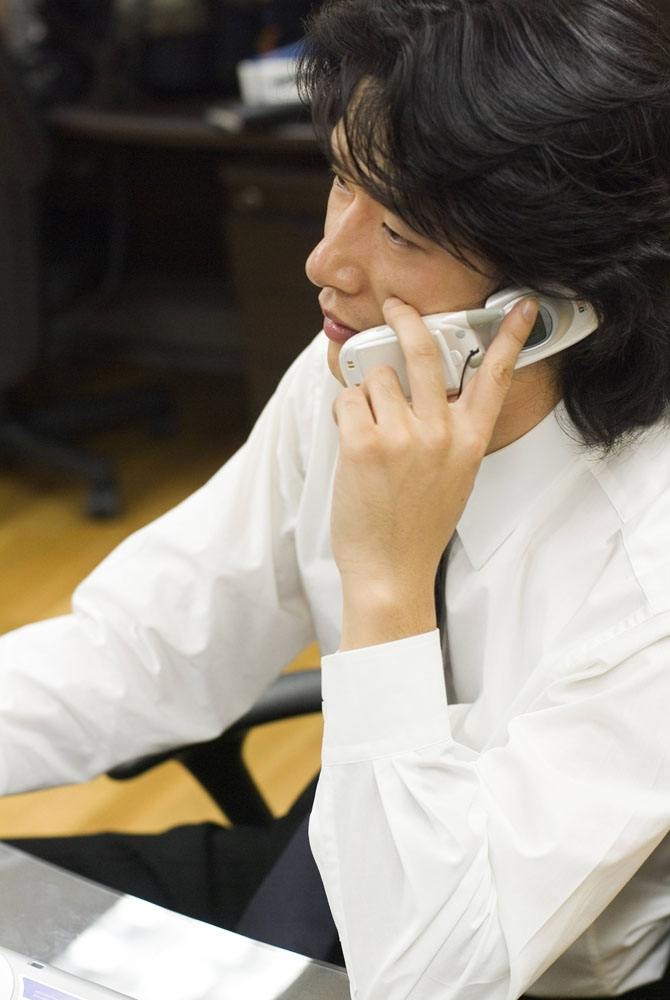calling: (324, 265, 607, 569)
